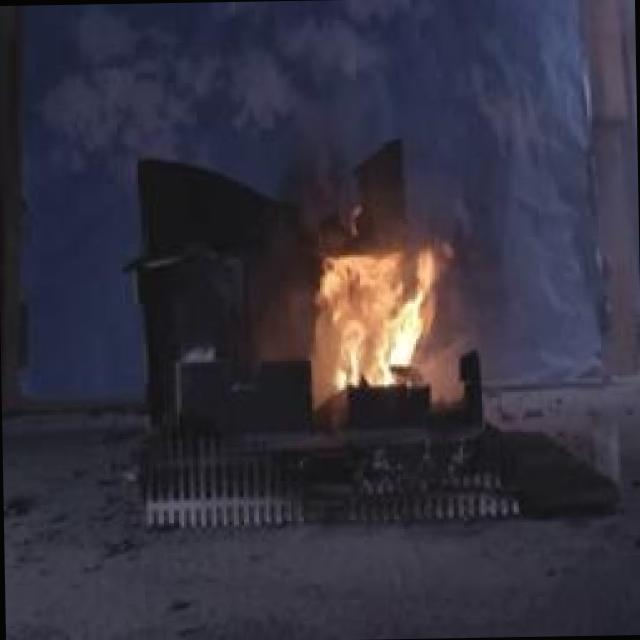fire: (301, 215, 464, 403)
